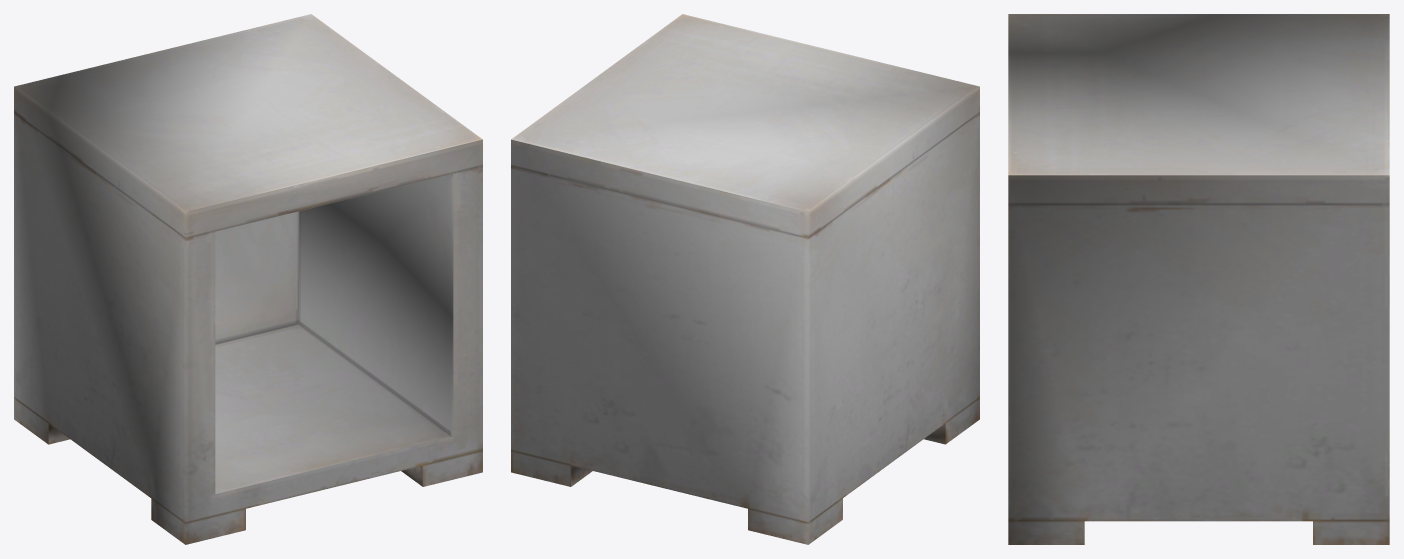
Rendered from chest_of_drawers_bedside.dae.
3 views of the same model, side by side, from view 1: azimuth 30°, elevation 25°; view 2: azimuth 150°, elevation 25°; view 3: azimuth 270°, elevation 25° (orthographic). The views are drawn at different scales.
Parts seen in each view (by area): view 1: chest_of_drawers_bedside; view 2: chest_of_drawers_bedside; view 3: chest_of_drawers_bedside.
Part boxes in pixels (<box>): chest_of_drawers_bedside: <box>14,14,482,544</box>; chest_of_drawers_bedside: <box>511,14,979,544</box>; chest_of_drawers_bedside: <box>1008,14,1389,544</box>.
Size of the model in its own units: 60.1 by 64.27 by 60.04.
